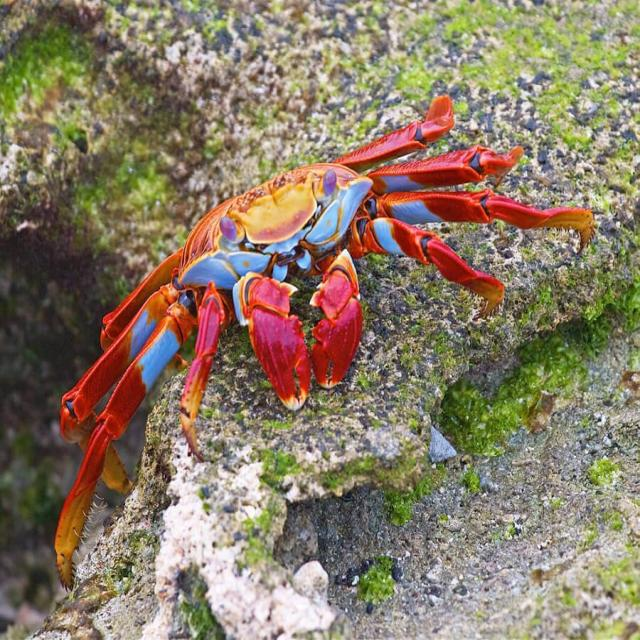crab: (137, 160, 453, 396)
